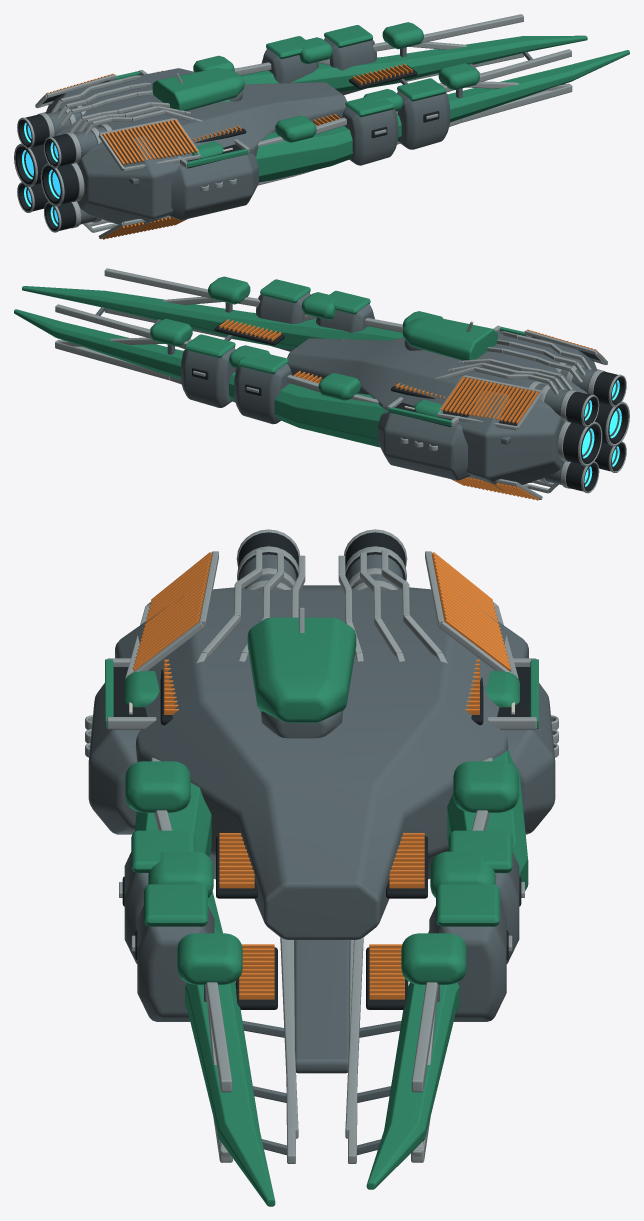
Rendered from shu-carrier.glb.
3 renders of one model, top to bottom at view 1: azimuth 30°, elevation 25°; view 2: azimuth 150°, elevation 25°; view 3: azimuth 270°, elevation 25°, orthographic. The views are drawn at different scales.
Parts seen in each view (by area): view 1: Aft machinery citadel, Swept forebody prong, Swept forebody prong.001, Aft hangar armored shoulder, Command bridge.001, Midship full-height armor collar, Midship full-height armor collar.001, Midship full-height armor collar.003, Midship full-height armor collar.002, Recessed exhaust nozzle.001, Upper exposed longeron.007, Beveled jade armor tile.001 (+23 smaller); view 2: Aft machinery citadel, Swept forebody prong.001, Swept forebody prong, Aft hangar armored shoulder.001, Command bridge.001, Midship full-height armor collar.003, Midship full-height armor collar.002, Midship full-height armor collar.001, Recessed exhaust nozzle.004, Upper exposed longeron.003, Beveled jade armor tile.003, Beveled jade armor tile.005 (+24 smaller); view 3: Aft machinery citadel, Swept forebody prong, Swept forebody prong.001, Command bridge.001, Ventral drone recovery ramp, Aft hangar armored shoulder, Midship full-height armor collar.001, Midship full-height armor collar.003, Aft hangar armored shoulder.001, Beveled jade armor tile.001, Beveled jade armor tile.005, Beveled jade armor tile.003 (+18 smaller).
Boxes of the visible parts, <box> form: Aft machinery citadel: <box>45,68,346,229</box>; Swept forebody prong: <box>256,50,629,182</box>; Swept forebody prong.001: <box>235,35,587,92</box>; Aft hangar armored shoulder: <box>168,153,258,220</box>; Command bridge.001: <box>152,67,244,111</box>; Midship full-height armor collar: <box>342,107,398,165</box>; Midship full-height armor collar.001: <box>397,91,449,149</box>; Midship full-height armor collar.003: <box>324,37,376,94</box>; Midship full-height armor collar.002: <box>261,48,318,83</box>; Recessed exhaust nozzle.001: <box>42,164,84,204</box>; Upper exposed longeron.007: <box>420,14,523,43</box>; Beveled jade armor tile.001: <box>275,115,316,142</box>; Aft machinery citadel: <box>287,330,597,490</box>; Swept forebody prong.001: <box>14,309,387,447</box>; Swept forebody prong: <box>22,286,403,349</box>; Aft hangar armored shoulder.001: <box>377,411,470,480</box>; Command bridge.001: <box>402,316,497,360</box>; Midship full-height armor collar.003: <box>181,347,235,407</box>; Midship full-height armor collar.002: <box>234,363,292,424</box>; Midship full-height armor collar.001: <box>256,292,310,351</box>; Recessed exhaust nozzle.004: <box>557,422,600,464</box>; Upper exposed longeron.003: <box>104,268,210,298</box>; Beveled jade armor tile.003: <box>208,276,250,304</box>; Beveled jade armor tile.005: <box>318,373,360,400</box>; Aft machinery citadel: <box>115,585,528,939</box>; Swept forebody prong: <box>135,782,275,1206</box>; Swept forebody prong.001: <box>366,749,528,1189</box>; Command bridge.001: <box>247,617,356,722</box>; Ventral drone recovery ramp: <box>294,940,349,1073</box>; Aft hangar armored shoulder: <box>88,683,140,834</box>; Midship full-height armor collar.001: <box>137,905,214,1021</box>; Midship full-height armor collar.003: <box>429,905,506,1021</box>; Aft hangar armored shoulder.001: <box>503,683,555,834</box>; Beveled jade armor tile.001: <box>125,761,190,812</box>; Beveled jade armor tile.005: <box>453,761,518,812</box>; Beveled jade armor tile.003: <box>177,933,242,984</box>.
Size of the model in its own units: 1300 by 275 by 462.
